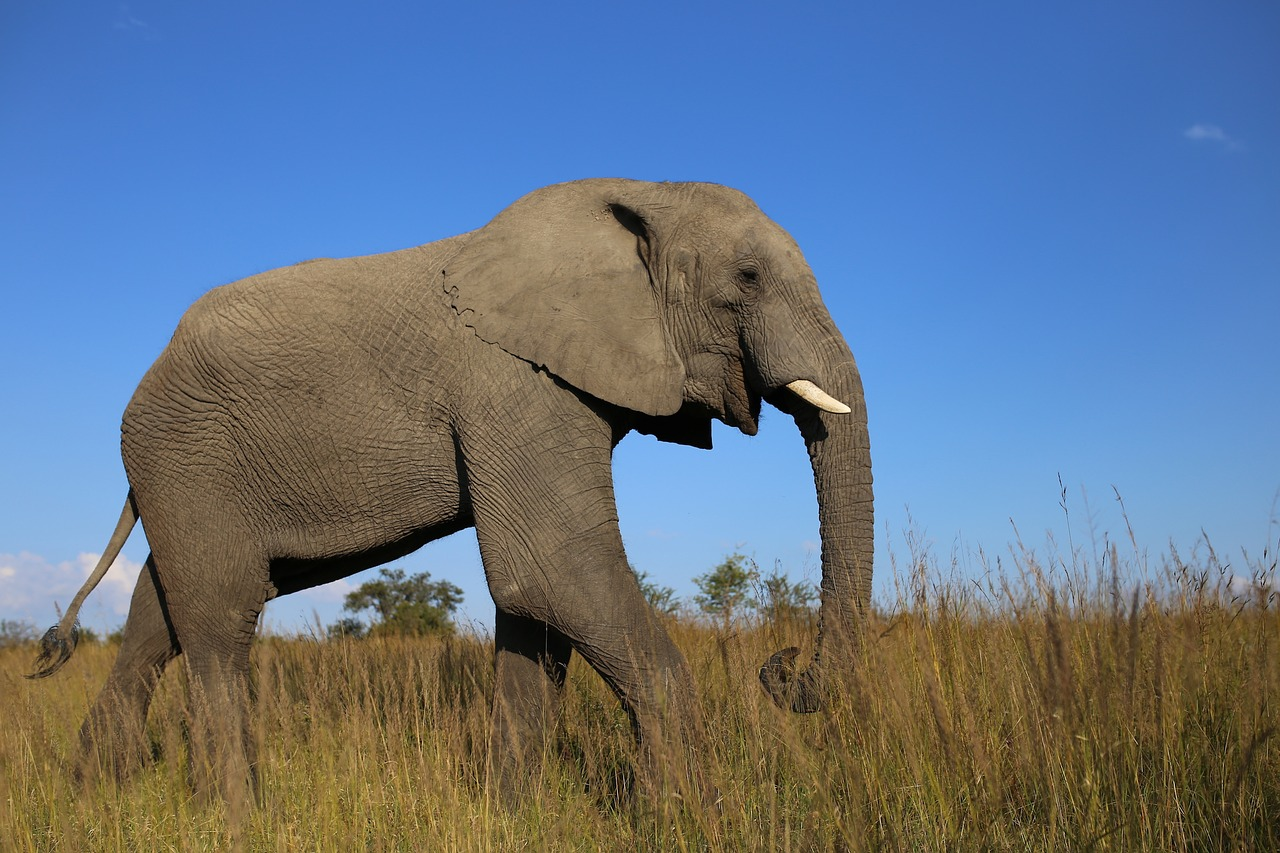Elephant: (20, 168, 896, 811)
